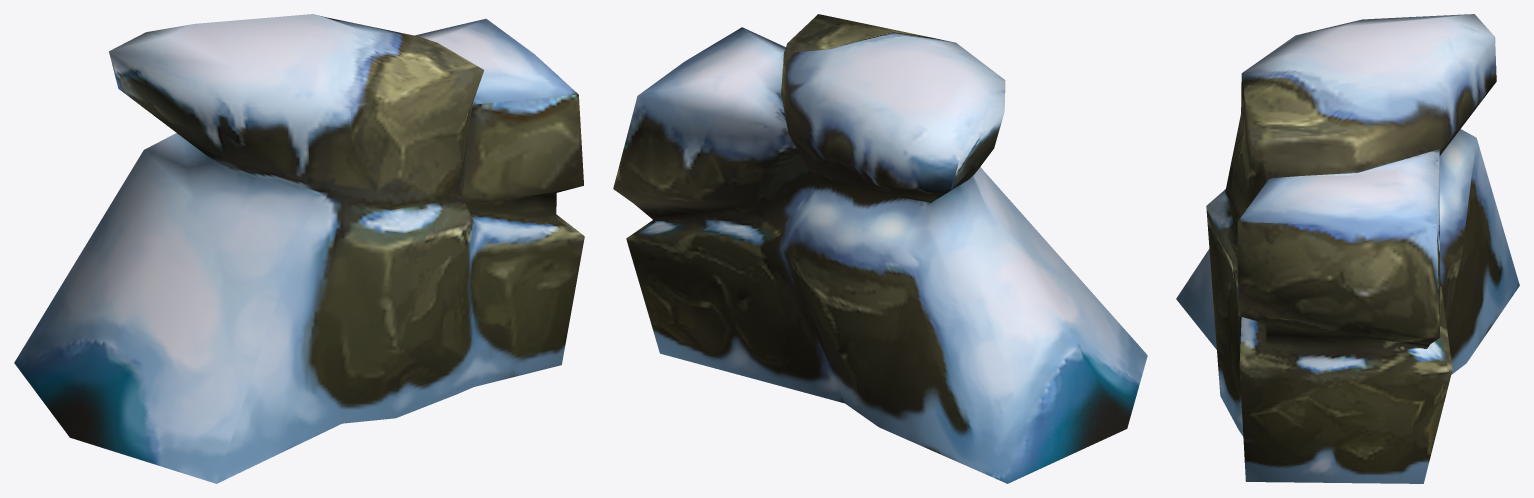
The model's file is ShiTou08.FBX.
The picture shows the model from 3 angles, left to right: view 1: azimuth 30°, elevation 25°; view 2: azimuth 150°, elevation 25°; view 3: azimuth 270°, elevation 25°; orthographic projection. The views are drawn at different scales.
Parts seen in each view (by area): view 1: ShiTou08; view 2: ShiTou08; view 3: ShiTou08.
Boxes of the visible parts, x1=… form: ShiTou08: x1=14, y1=14, x2=584, y2=483; ShiTou08: x1=613, y1=14, x2=1147, y2=483; ShiTou08: x1=1176, y1=14, x2=1519, y2=483.
Bounding box in the file's own units: 210 × 138 × 130.
